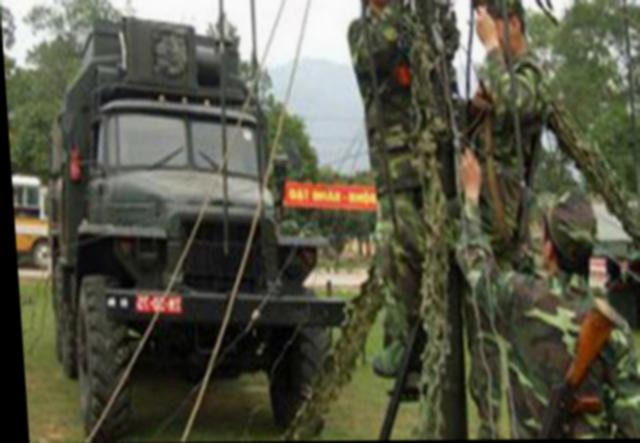License_Plate: (132, 295, 186, 313)
